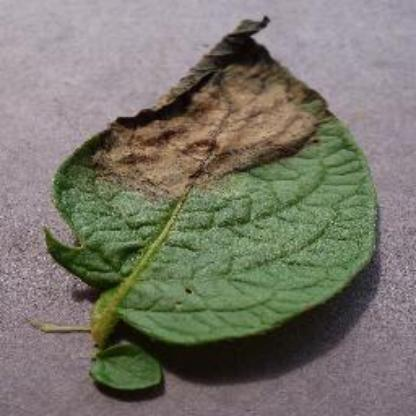Late-Blight: (40, 14, 380, 388)
